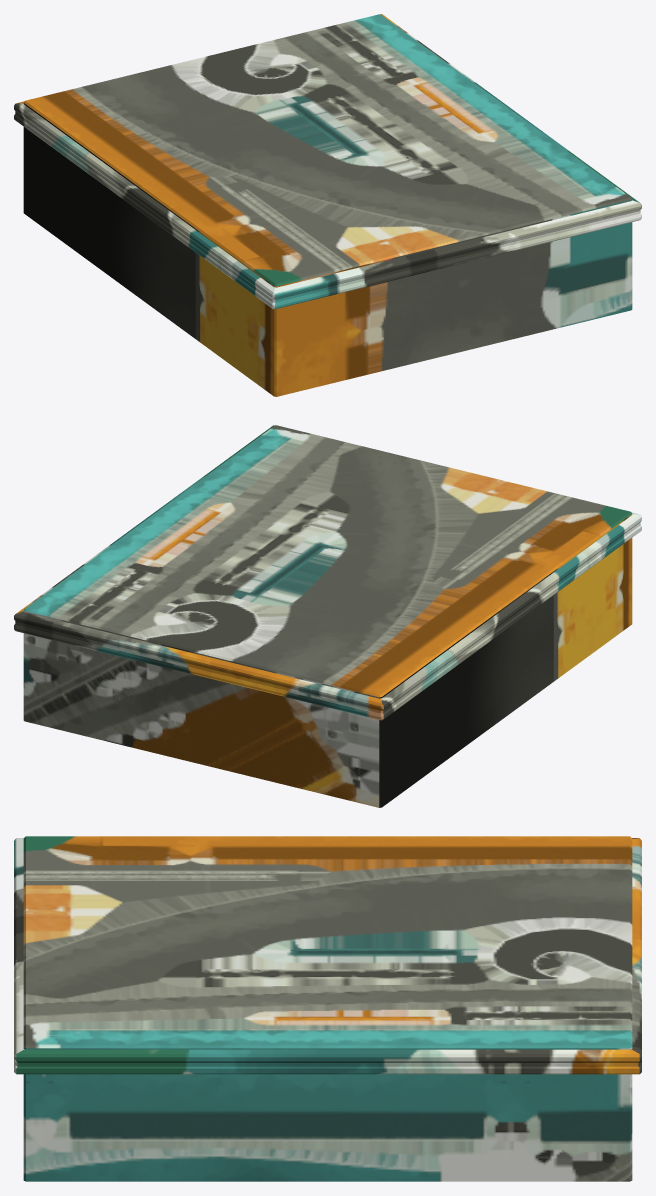
File: WindmillHouseOtherFloorBase.fbx
3 renders of one model, top to bottom at view 1: azimuth 30°, elevation 25°; view 2: azimuth 150°, elevation 25°; view 3: azimuth 270°, elevation 25°, orthographic. The views are drawn at different scales.
Parts seen in each view (by area): view 1: WindmillHouseOtherFloors.002; view 2: WindmillHouseOtherFloors.002; view 3: WindmillHouseOtherFloors.002.
Part boxes in pixels (x1,y1,x2,y2): WindmillHouseOtherFloors.002: (14, 14, 641, 396); WindmillHouseOtherFloors.002: (14, 425, 641, 807); WindmillHouseOtherFloors.002: (14, 836, 641, 1181).
Size of the model in its own units: 23.46 by 6.81 by 28.63.
